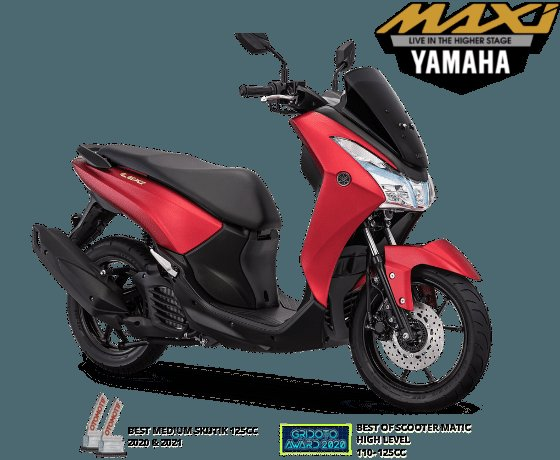motor: (47, 65, 497, 412)
